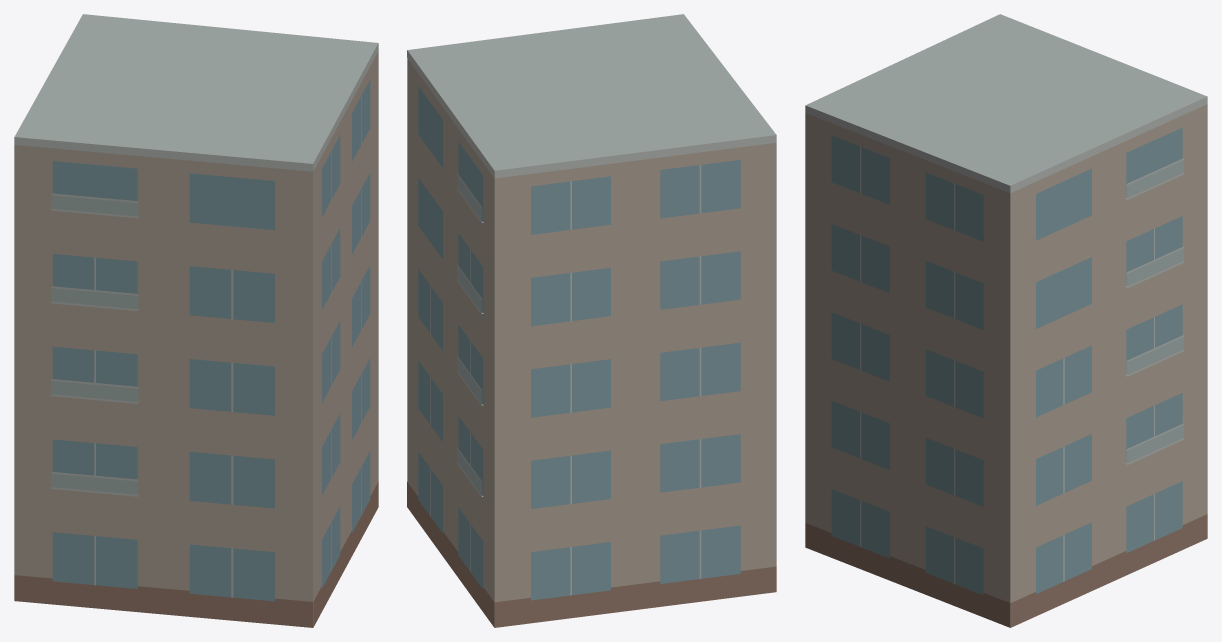
Rendered from survey-upis-32970906.glb.
The picture shows the model from 3 angles, left to right: view 1: azimuth 30°, elevation 25°; view 2: azimuth 150°, elevation 25°; view 3: azimuth 270°, elevation 25°; orthographic projection. The views are drawn at different scales.
Parts seen in each view (by area): view 1: survey-upis-32970906.tmp; view 2: survey-upis-32970906.tmp; view 3: survey-upis-32970906.tmp.
Boxes of the visible parts, x1,y1,x2,y2 form: survey-upis-32970906.tmp: [14, 14, 378, 627]; survey-upis-32970906.tmp: [407, 14, 776, 627]; survey-upis-32970906.tmp: [805, 14, 1207, 627].
Bounding box in the file's own units: 12.1 × 14.5 × 11.97.
